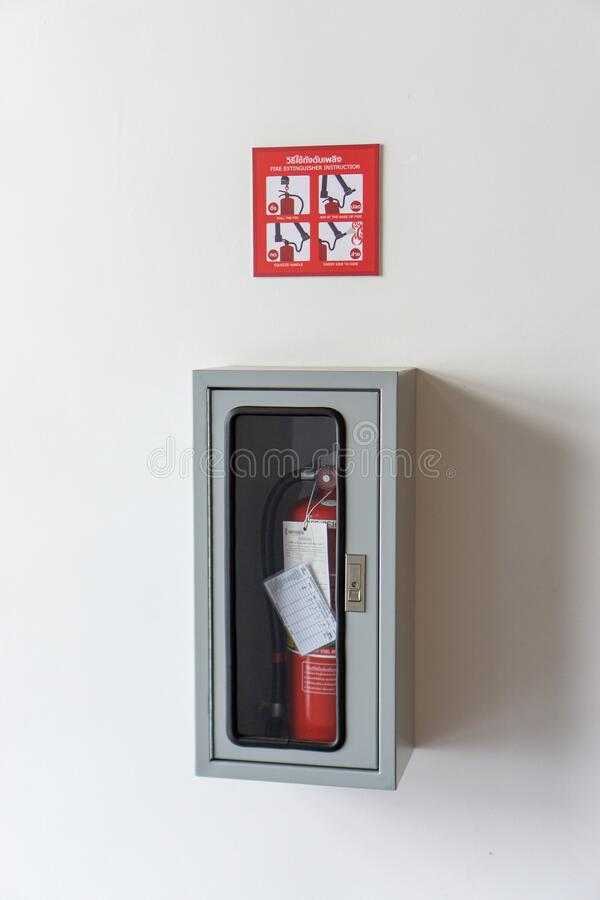fire_extinguisher: (261, 464, 341, 745)
